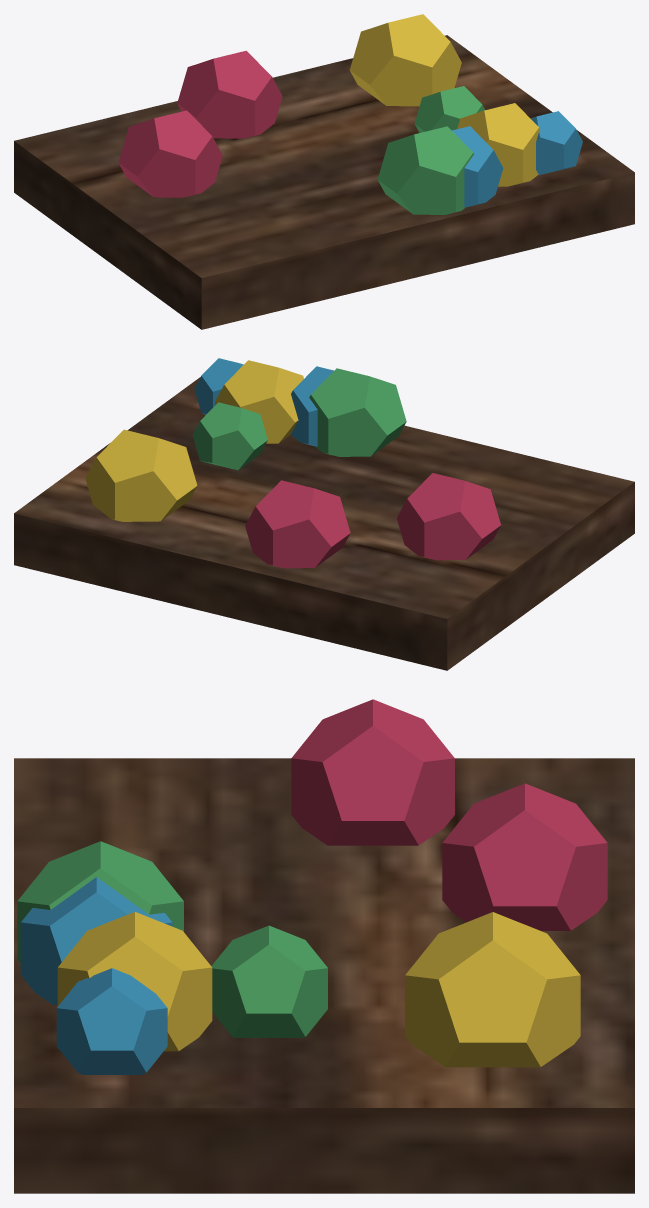
Rendered from gems.glb.
3 views of the same model, one above another, from view 1: azimuth 30°, elevation 25°; view 2: azimuth 150°, elevation 25°; view 3: azimuth 270°, elevation 25° (orthographic). The views are drawn at different scales.
Parts seen in each view (by area): view 1: part_0, part_2, part_4, part_3, part_1; view 2: part_0, part_2, part_4, part_3, part_1; view 3: part_0, part_2, part_4, part_3, part_1.
Boxes of the visible parts, x1,y1,x2,y2 form: part_0: (14,35,634,329); part_2: (118,50,282,197); part_4: (350,14,540,186); part_3: (377,86,484,214); part_1: (452,111,582,207); part_0: (14,377,634,670); part_2: (245,473,500,568); part_4: (85,360,303,521); part_3: (192,368,406,470); part_1: (194,358,333,446); part_0: (14,758,634,1193); part_2: (291,699,607,930); part_4: (57,912,580,1067); part_3: (17,841,327,1037); part_1: (20,877,172,1074).
Size of the model in its own units: 0.4384 by 0.1165 by 0.3288.
Materials: 5 (1 with a texture image).
